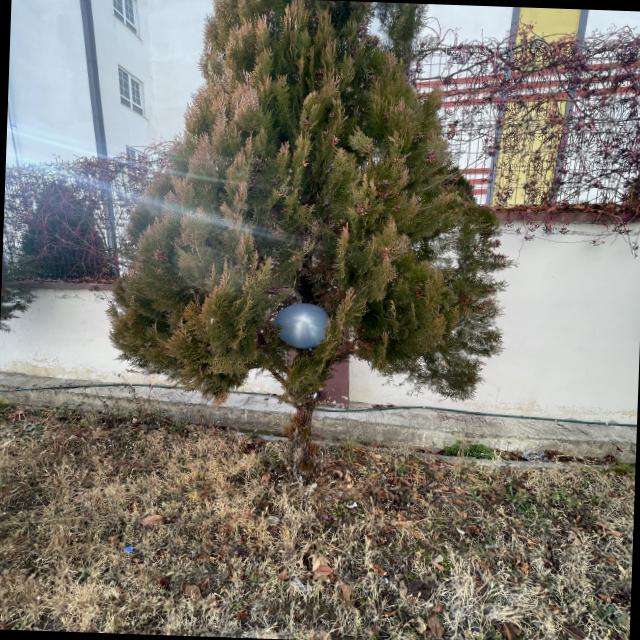balloon: (275, 303, 329, 348), (293, 316, 294, 316)
